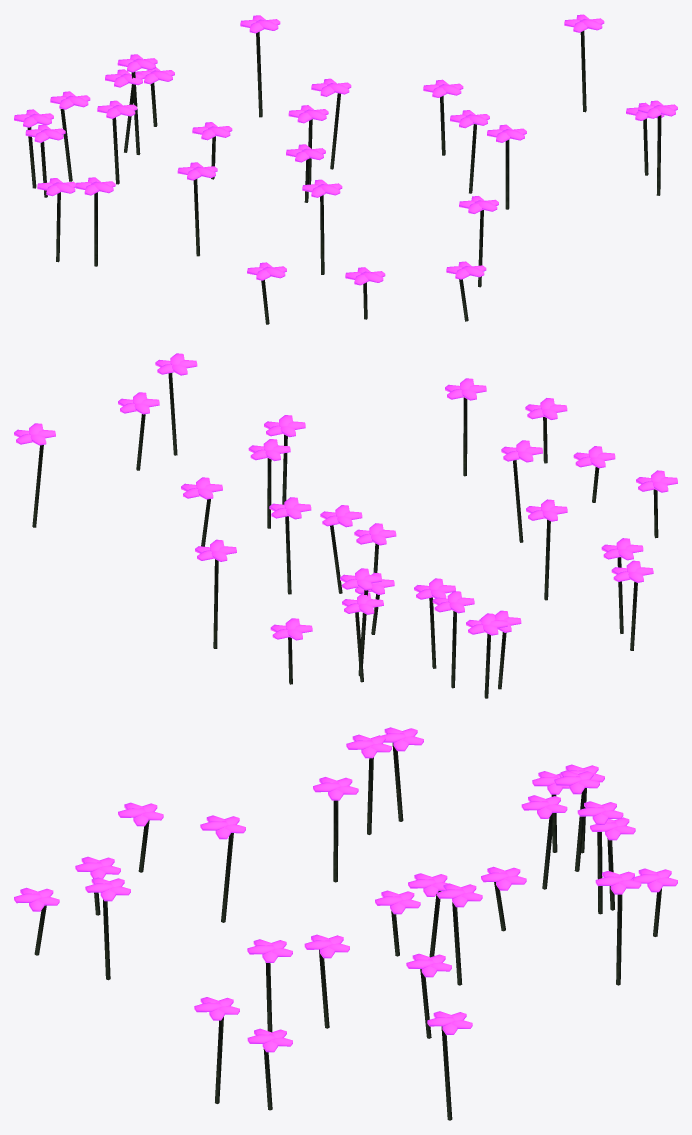
Rendered from poison_flowers.glb.
The picture shows the model from 3 angles, top to bottom: view 1: azimuth 30°, elevation 25°; view 2: azimuth 150°, elevation 25°; view 3: azimuth 270°, elevation 25°; orthographic projection. The views are drawn at different scales.
Visible parts, largest first — view 1: Petals, Stems; view 2: Petals, Stems; view 3: Petals, Stems.
Part boxes in pixels (left/top/right/bottom): Petals: left=14, top=14, right=677, bottom=285; Stems: left=27, top=31, right=661, bottom=324; Petals: left=14, top=353, right=677, bottom=640; Stems: left=32, top=373, right=658, bottom=698; Petals: left=14, top=727, right=677, bottom=1052; Stems: left=34, top=743, right=661, bottom=1120.
Size of the model in its own units: 8.06 by 1.28 by 7.13.
Materials: 2 (1 with a texture image).
